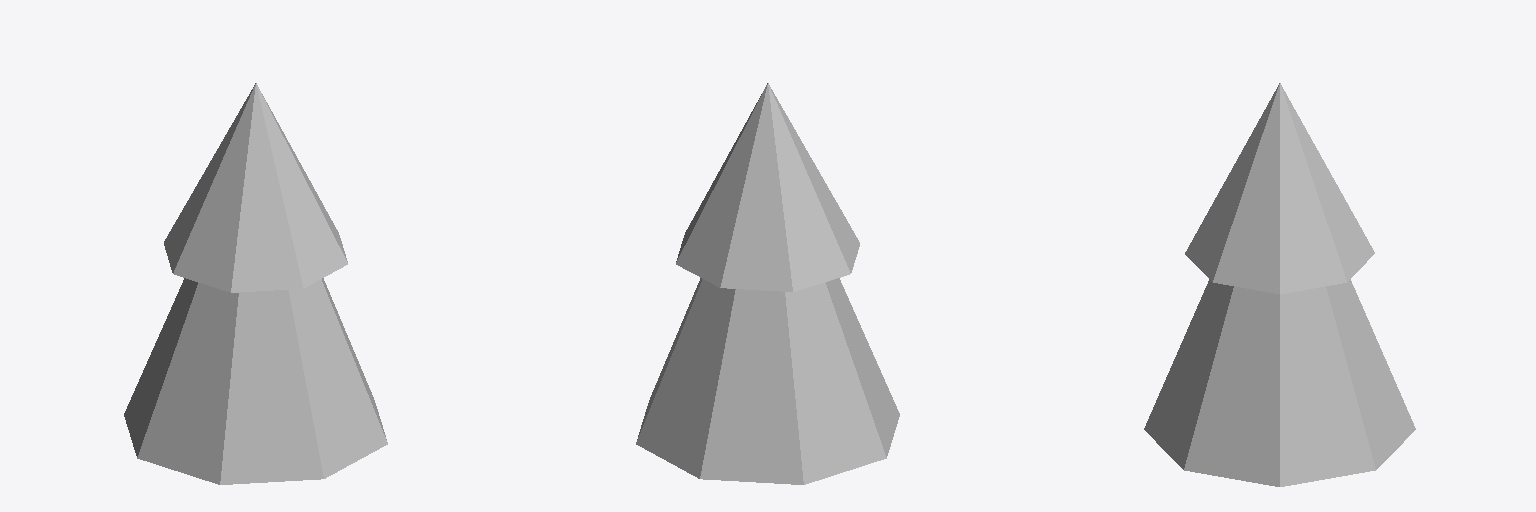
The model's file is simpletree.obj.
3 views of the same model, side by side, from view 1: azimuth 30°, elevation 25°; view 2: azimuth 150°, elevation 25°; view 3: azimuth 270°, elevation 25° (orthographic).
Parts seen in each view (by area): view 1: 원뿔.001_원뿔.002; view 2: 원뿔.001_원뿔.002; view 3: 원뿔.001_원뿔.002.
Boxes of the visible parts, x1=… form: 원뿔.001_원뿔.002: x1=124, y1=83, x2=387, y2=484; 원뿔.001_원뿔.002: x1=636, y1=83, x2=899, y2=484; 원뿔.001_원뿔.002: x1=1144, y1=83, x2=1415, y2=486.
Bounding box in the file's own units: 3.45 × 4.81 × 3.42.